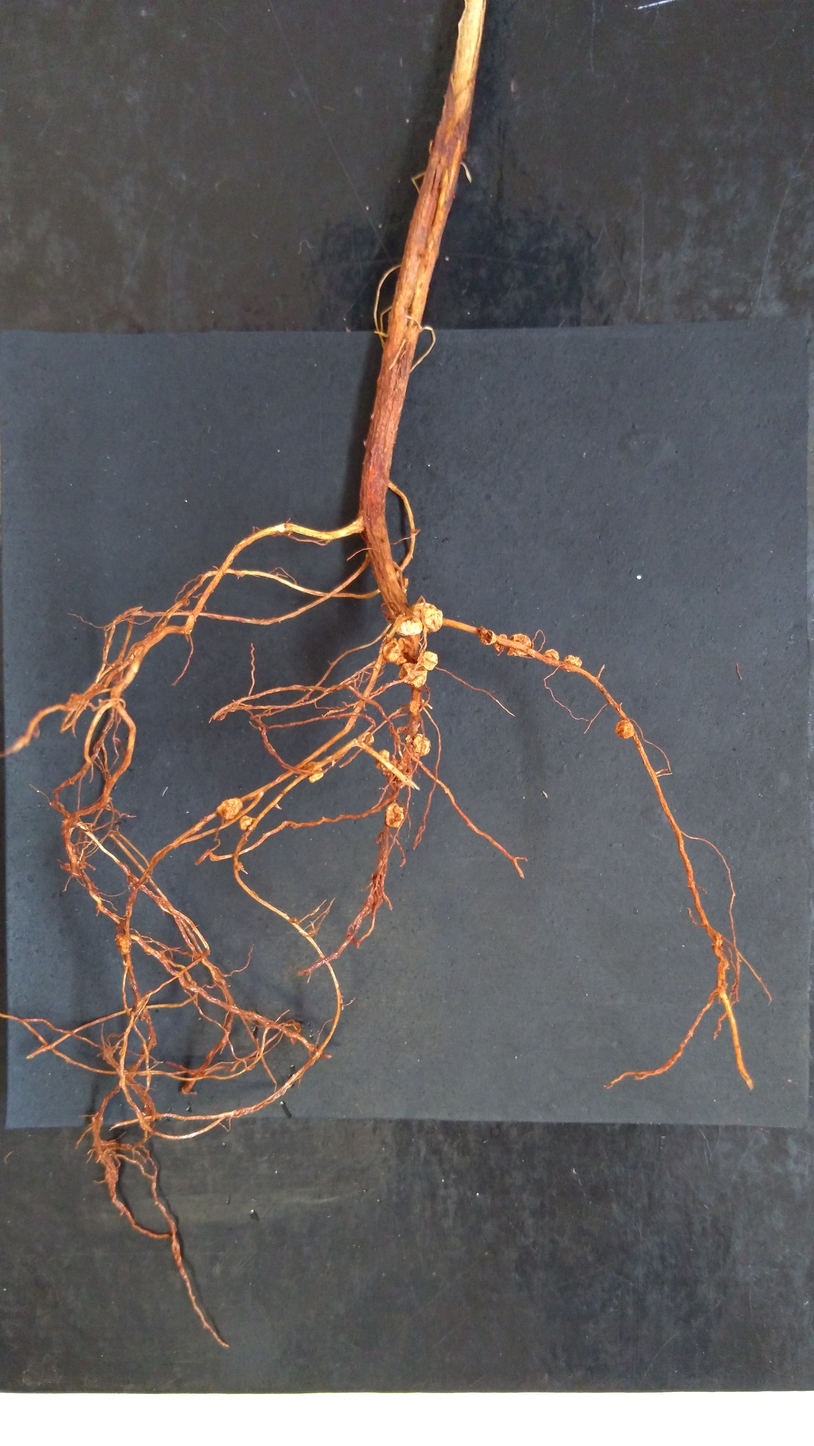nodule: (412, 602, 444, 634), (385, 756, 414, 789), (397, 661, 428, 689), (214, 795, 243, 821), (394, 616, 424, 637), (506, 633, 532, 657), (383, 801, 405, 829), (302, 760, 324, 784), (412, 732, 432, 758), (381, 637, 399, 664), (614, 718, 635, 740), (416, 651, 439, 671), (477, 625, 497, 647), (374, 748, 391, 771), (492, 632, 508, 656), (114, 932, 130, 955), (563, 653, 583, 670), (237, 815, 254, 831), (542, 648, 559, 663), (360, 731, 376, 746), (409, 699, 420, 716)
